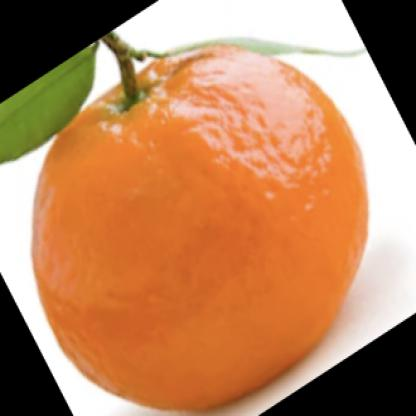orange: (25, 35, 374, 406)
